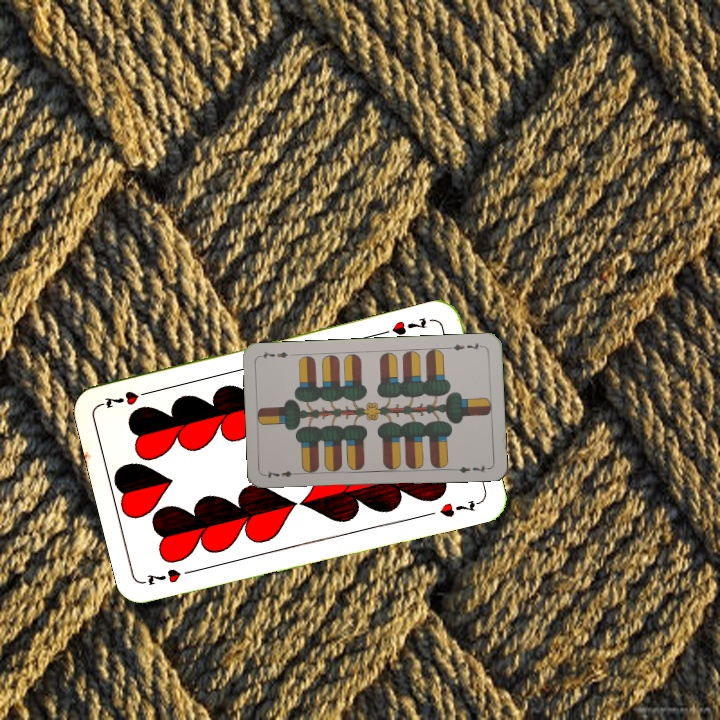E7: (445, 339, 486, 353), (262, 467, 303, 481)
H7: (141, 564, 199, 588), (388, 313, 429, 338)
